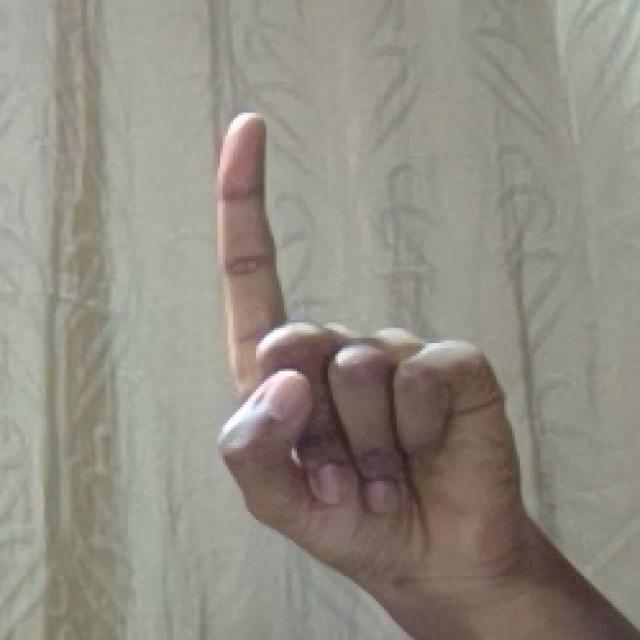Numeric-1: (206, 98, 506, 604)
